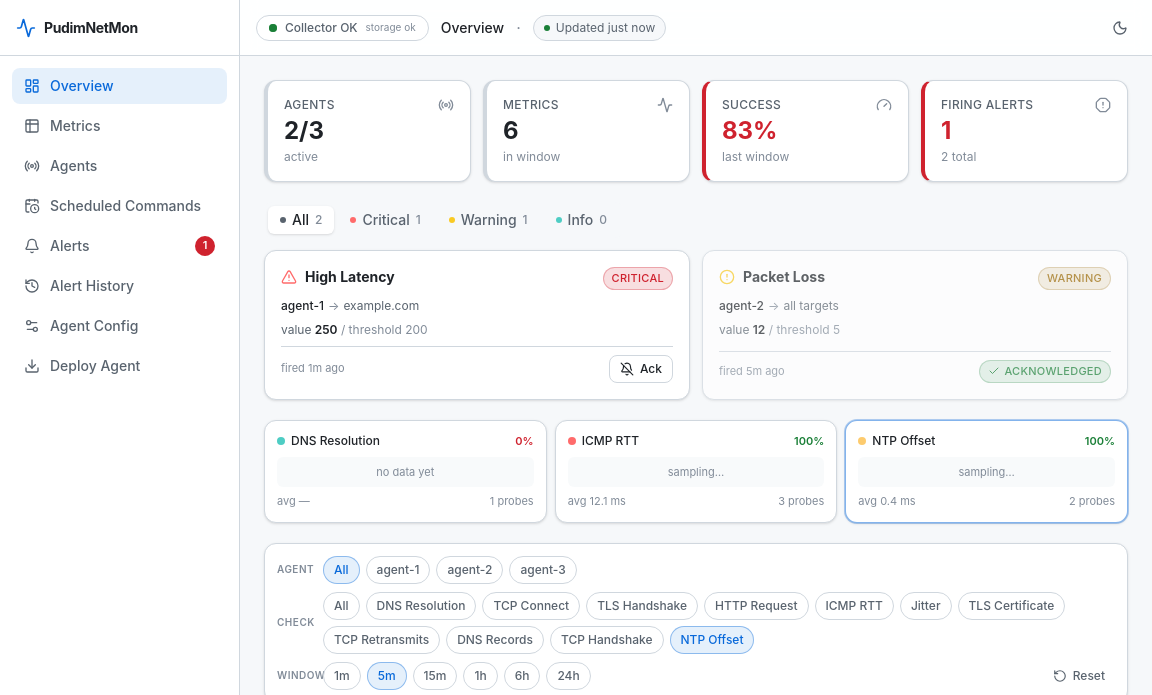
Test case: PudimNetMon dashboard › forgets an agent from the Agents page
The image size is (1152, 695).
Click the button "Agents" at (120, 166), box [12, 148, 227, 184]
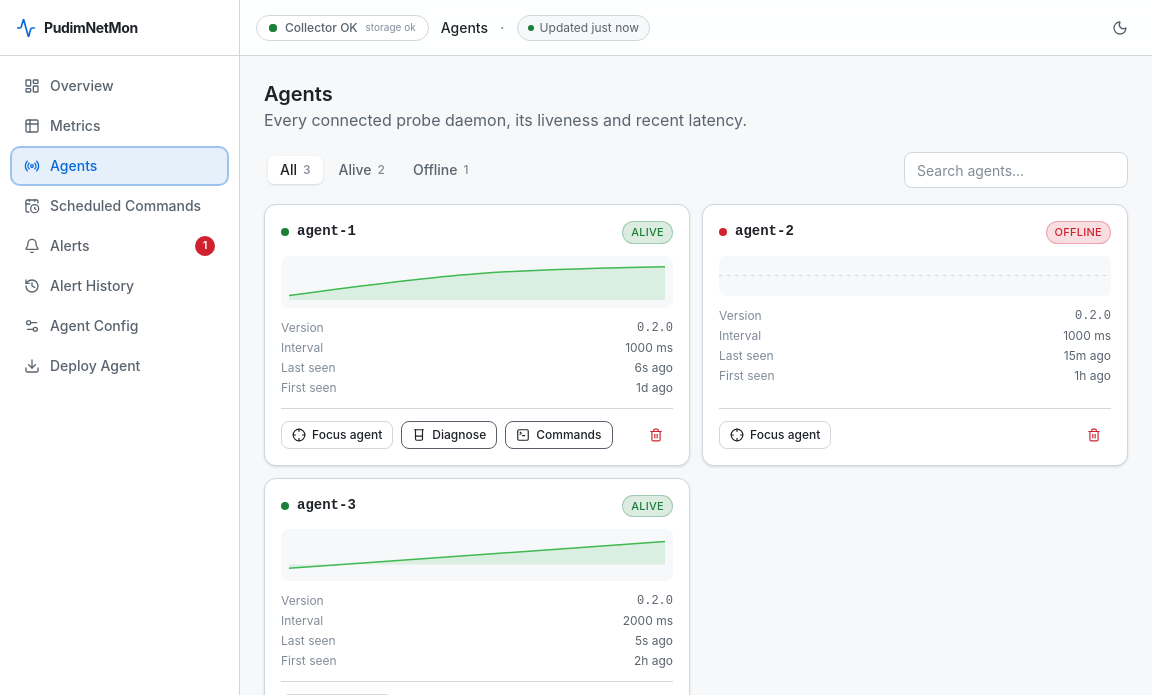
Expected: the text "agent-2" is shown, [735, 221, 794, 241]
Removal uses a two-step confirm.
Click the button named "Forget agent-2" at (1094, 434), box [1077, 420, 1111, 448]
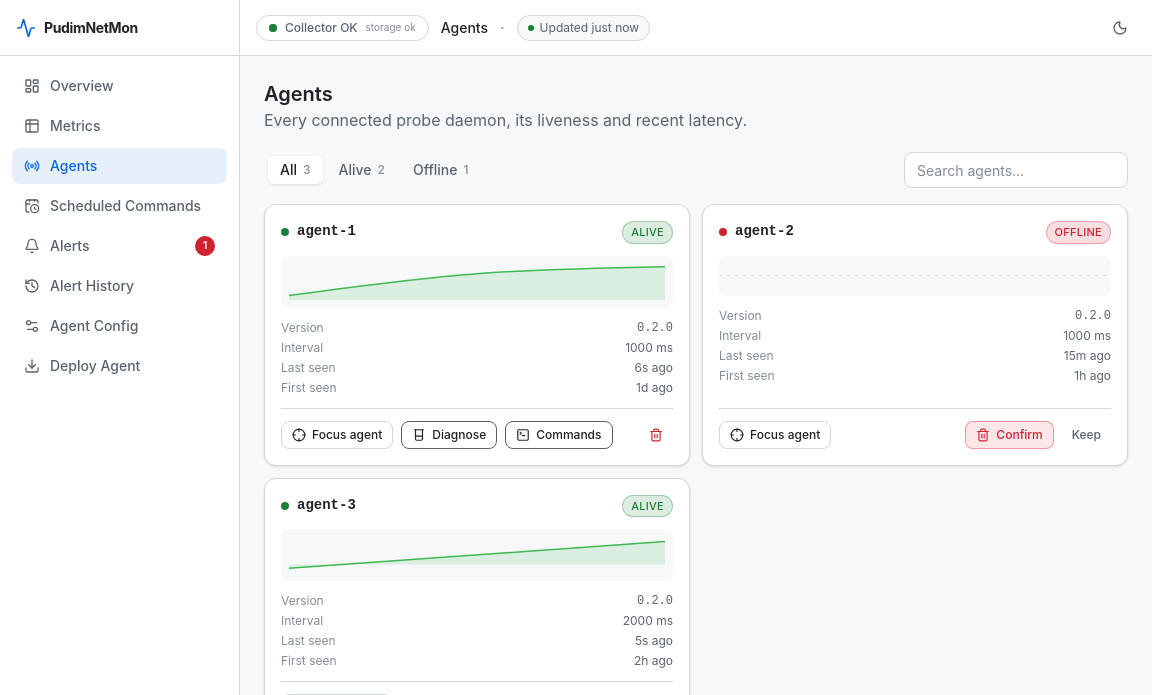
Click the button "Confirm" at (1010, 434), box [965, 420, 1054, 448]
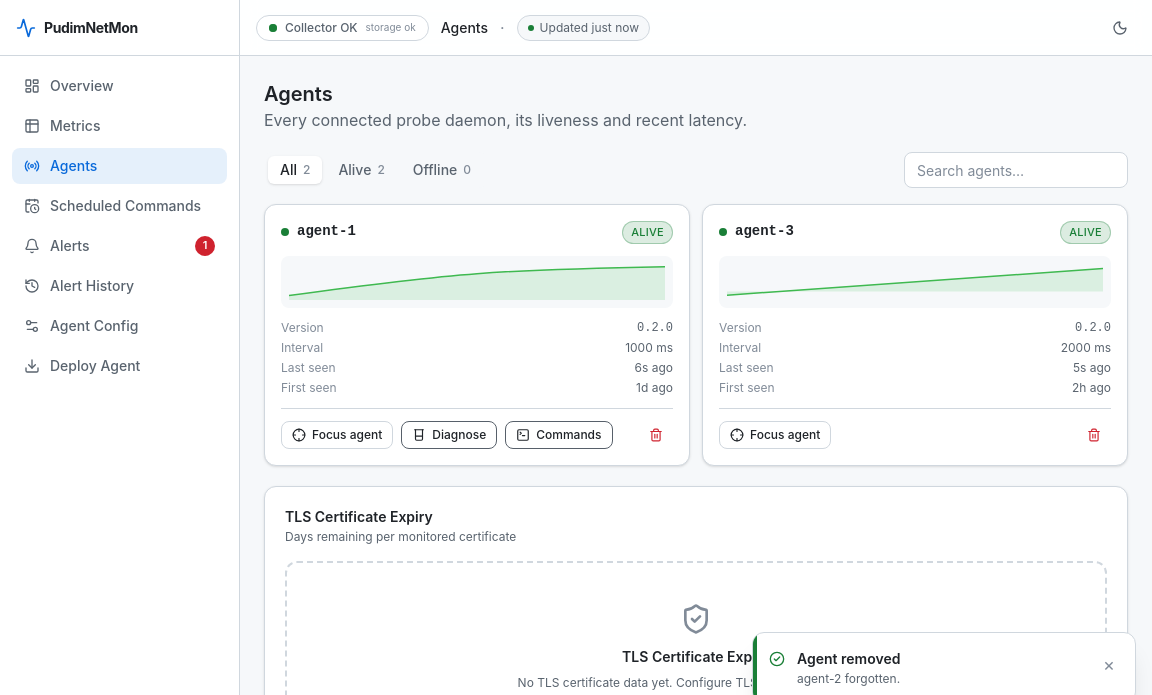
Expected: the text "Agent removed" is shown, [797, 650, 900, 667]
